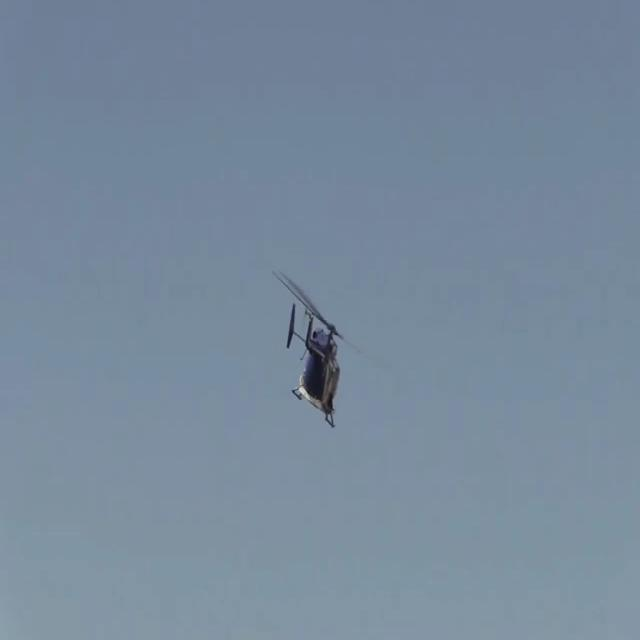Helicopter: (250, 256, 416, 436)
